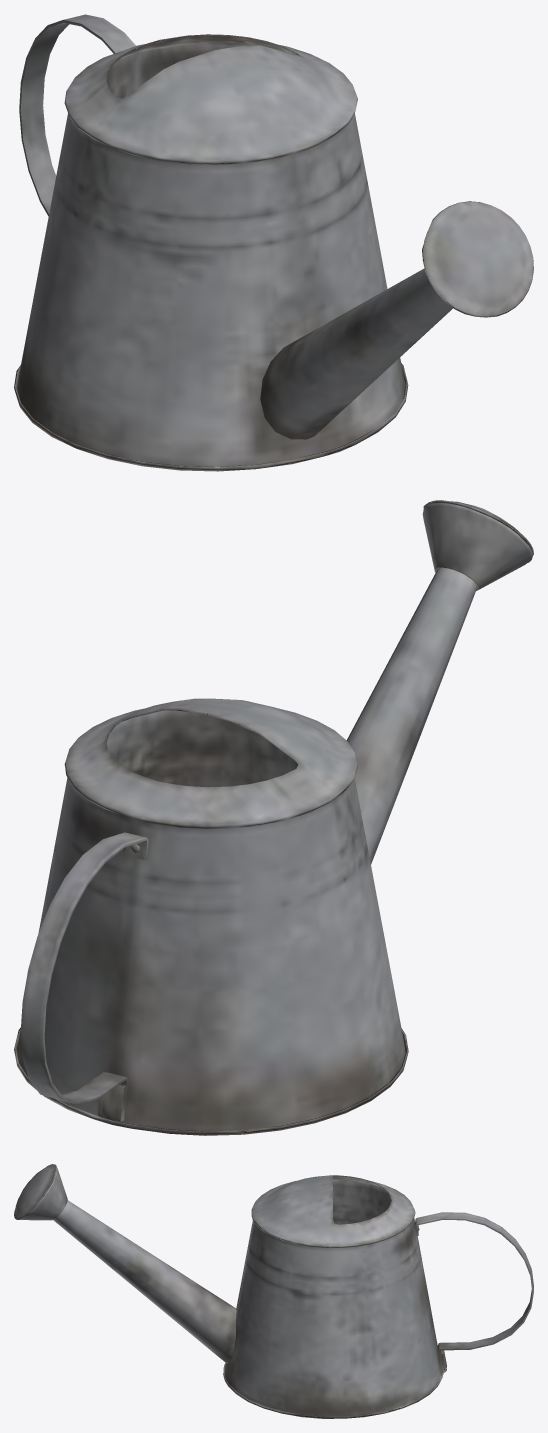
The model's file is watering_can.glb.
The picture shows the model from 3 angles, top to bottom: view 1: azimuth 30°, elevation 25°; view 2: azimuth 150°, elevation 25°; view 3: azimuth 270°, elevation 25°; orthographic projection. The views are drawn at different scales.
Visible parts, largest first — view 1: watering_can_metal_01; view 2: watering_can_metal_01; view 3: watering_can_metal_01.
Boxes of the visible parts, <box> form: watering_can_metal_01: <box>14,14,533,471</box>; watering_can_metal_01: <box>14,500,533,1135</box>; watering_can_metal_01: <box>14,1164,533,1418</box>.
Bounding box in the file's own units: 0.1905 × 0.1965 × 0.4521.
Materials: 1 (1 with a texture image).
